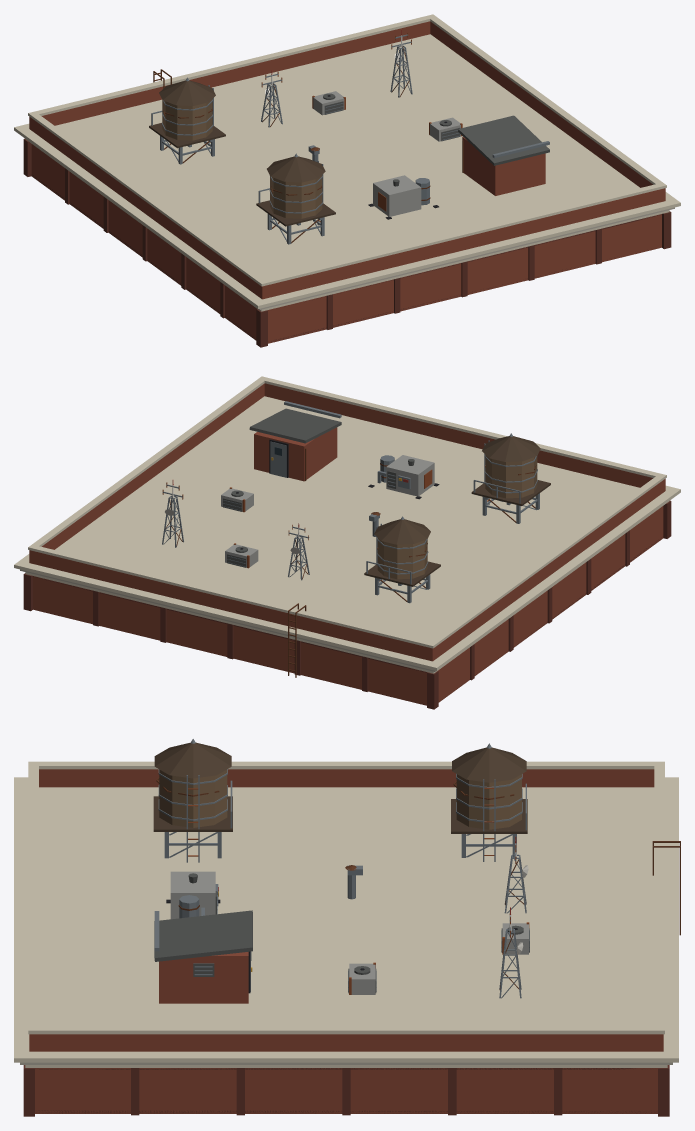
File: tw_brick_24_crown.glb
3 views of the same model, one above another, from view 1: azimuth 30°, elevation 25°; view 2: azimuth 150°, elevation 25°; view 3: azimuth 270°, elevation 25° (orthographic). The views are drawn at different scales.
Visible parts, largest first — view 1: tw_brick_24_crown; view 2: tw_brick_24_crown; view 3: tw_brick_24_crown.
Boxes of the visible parts, x1=… form: tw_brick_24_crown: x1=14, y1=14, x2=680, y2=347; tw_brick_24_crown: x1=14, y1=376, x2=680, y2=709; tw_brick_24_crown: x1=14, y1=739, x2=680, y2=1116.
Size of what is drawn, in the model's own units: 25.16 by 7.1 by 25.23.
Materials: 3 (3 with a texture image).
